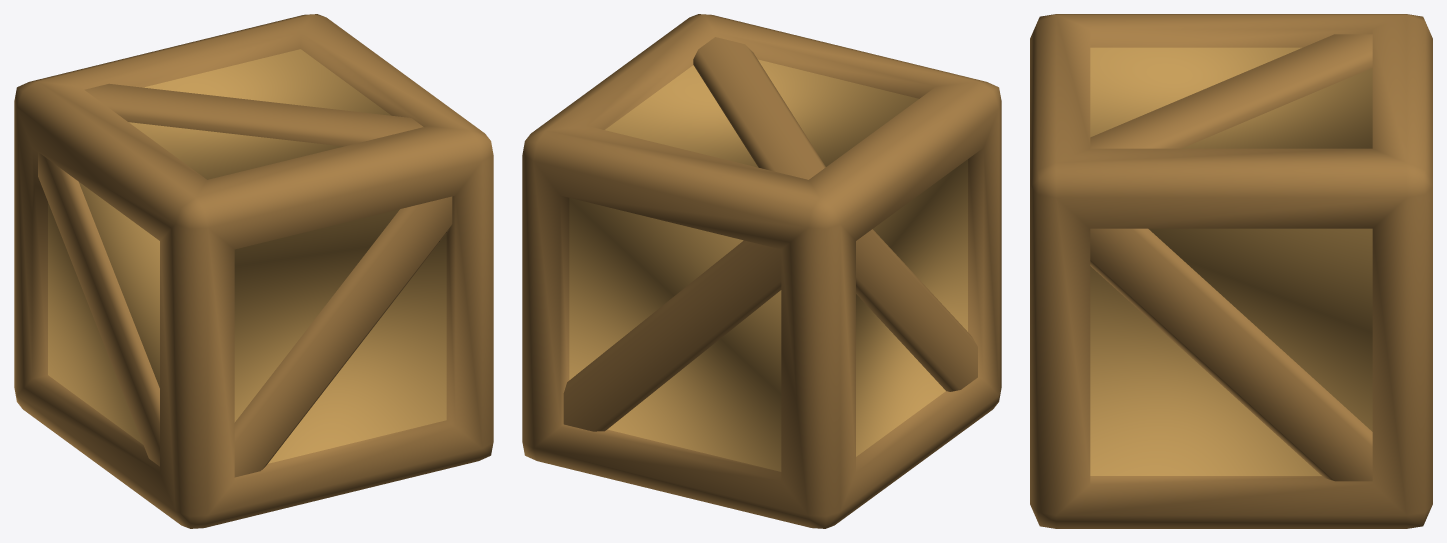
The model's file is Cube_Crate.gltf.
3 views of the same model, side by side, from view 1: azimuth 30°, elevation 25°; view 2: azimuth 150°, elevation 25°; view 3: azimuth 270°, elevation 25° (orthographic). The views are drawn at different scales.
Visible parts, largest first — view 1: Cube_Crate; view 2: Cube_Crate; view 3: Cube_Crate.
Part boxes in pixels (bbox=[...]): Cube_Crate: bbox=[14, 14, 493, 528]; Cube_Crate: bbox=[522, 14, 1001, 528]; Cube_Crate: bbox=[1030, 14, 1432, 528].
Bounding box in the file's own units: 2.02 × 2.02 × 2.02.
